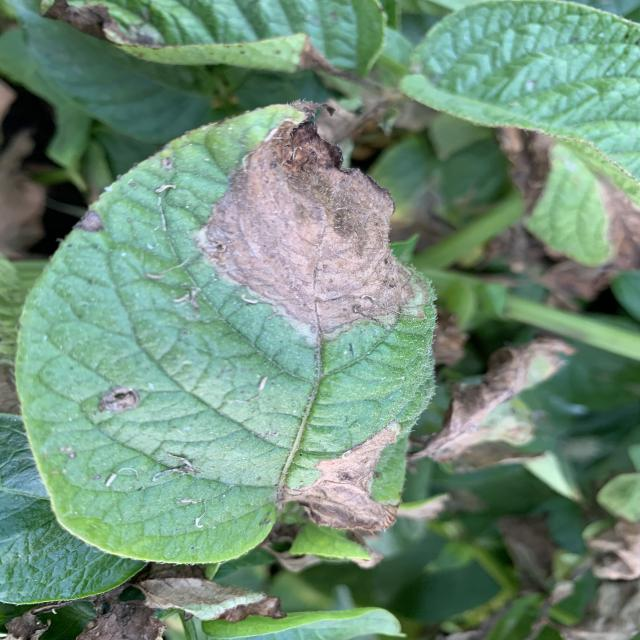lateblight: (198, 121, 413, 339), (282, 421, 402, 531), (98, 386, 140, 412)
